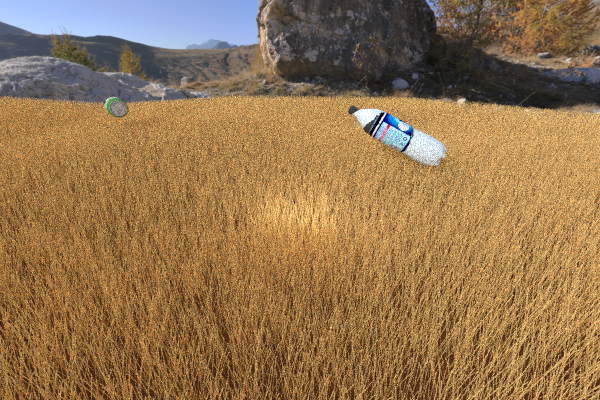Plastic Bottle: (347, 105, 447, 166), (91, 118, 177, 167), (104, 97, 128, 117)
